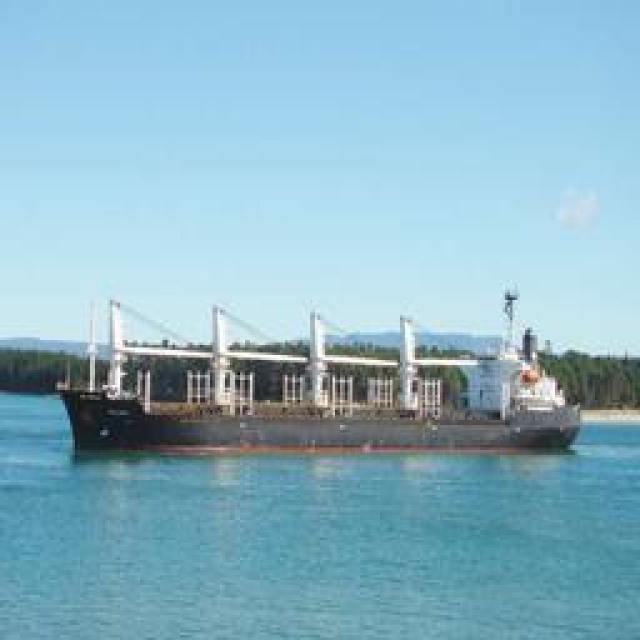CIV_Ship: (49, 292, 574, 456)
